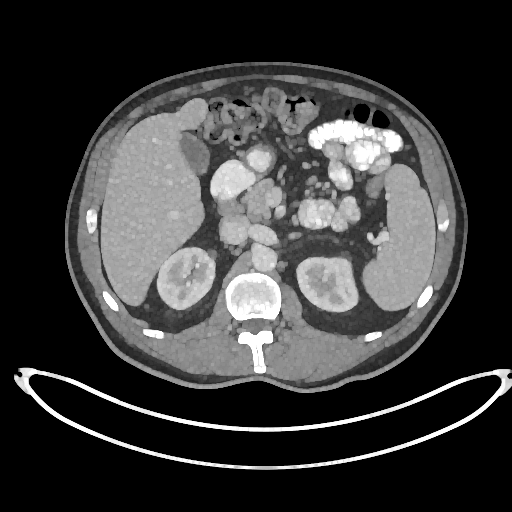Lesion: (202, 245, 220, 262)
